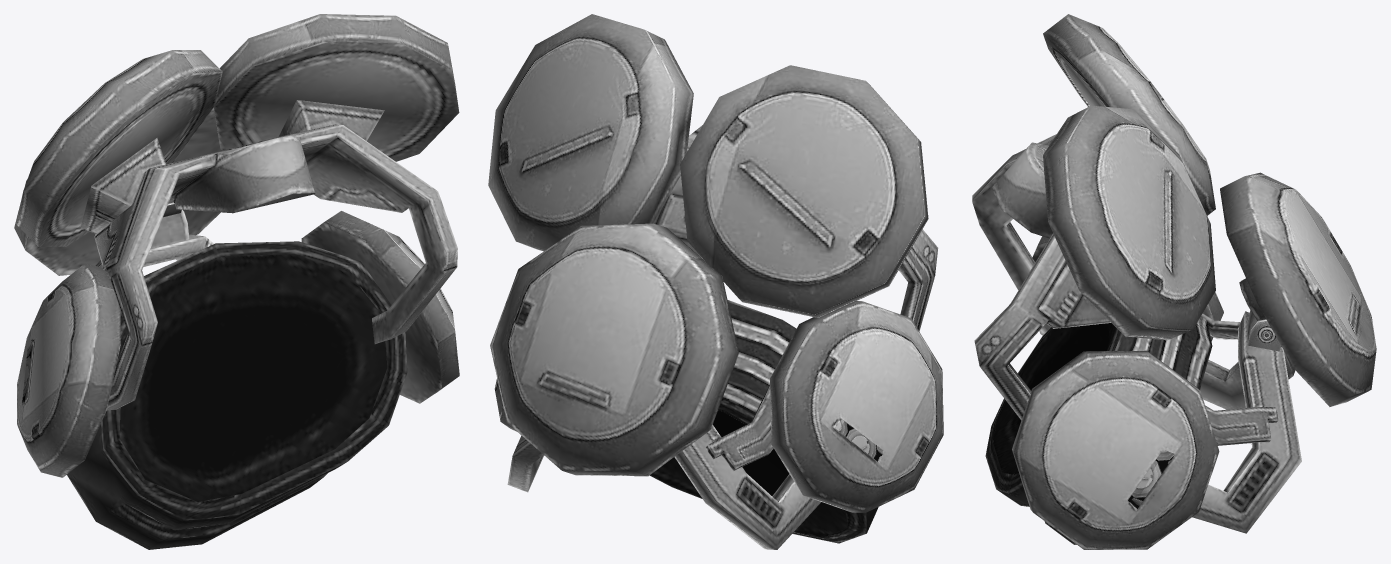
The model's file is Aviator Left Shoulder MALE.obj.
3 views of the same model, side by side, from view 1: azimuth 30°, elevation 25°; view 2: azimuth 150°, elevation 25°; view 3: azimuth 270°, elevation 25° (orthographic). The views are drawn at different scales.
Parts seen in each view (by area): view 1: armor_shoulder_left_mongoose.001; view 2: armor_shoulder_left_mongoose.001; view 3: armor_shoulder_left_mongoose.001.
Boxes of the visible parts, x1,y1,x2,y2 form: armor_shoulder_left_mongoose.001: [14, 14, 459, 549]; armor_shoulder_left_mongoose.001: [488, 14, 943, 549]; armor_shoulder_left_mongoose.001: [972, 14, 1376, 549].
Size of the model in its own units: 9.37 by 10.09 by 7.84.
